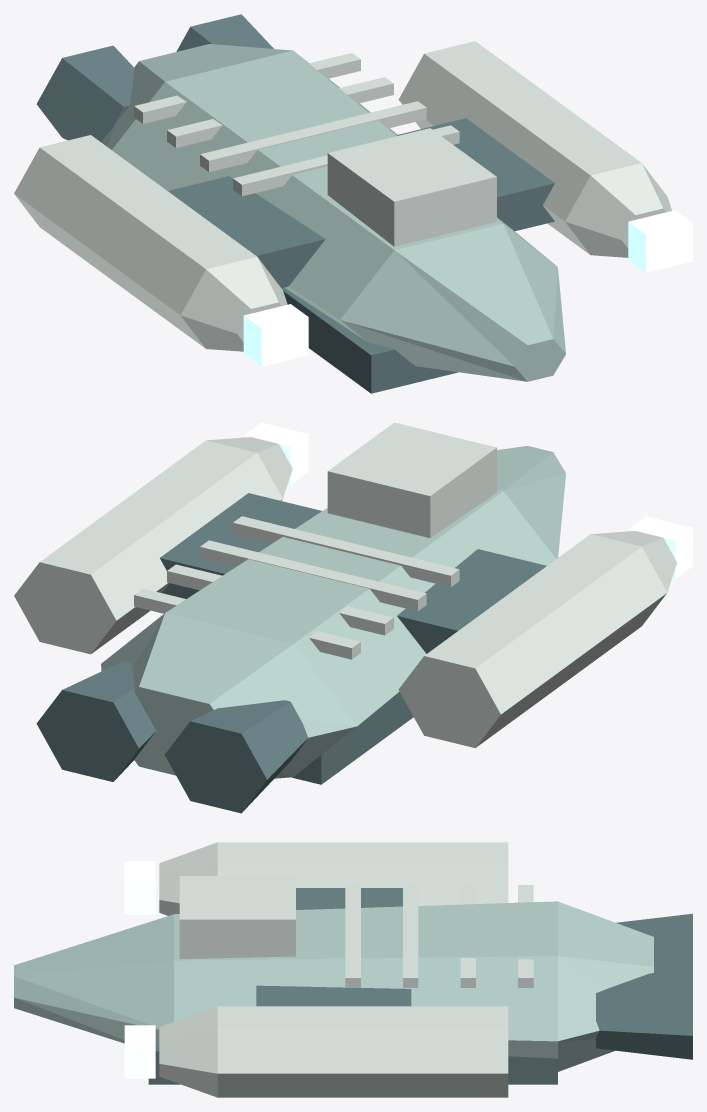
The picture shows the model from 3 angles, top to bottom: view 1: azimuth 30°, elevation 25°; view 2: azimuth 150°, elevation 25°; view 3: azimuth 270°, elevation 25°; orthographic projection. The views are drawn at different scales.
Bounding box in the file's own units: 5.47 × 1.81 × 7.56.
